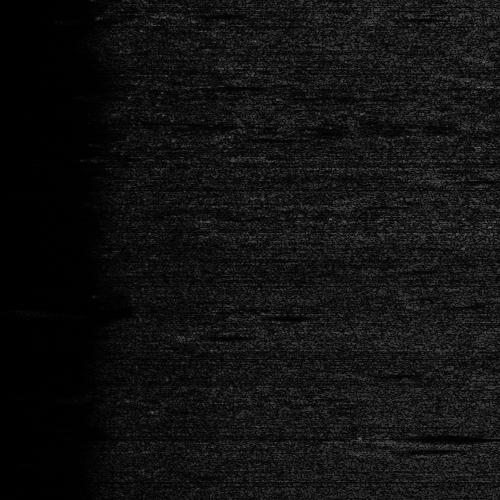rock: (346, 431, 419, 440), (481, 371, 500, 376)
shadow: (383, 431, 491, 440)
